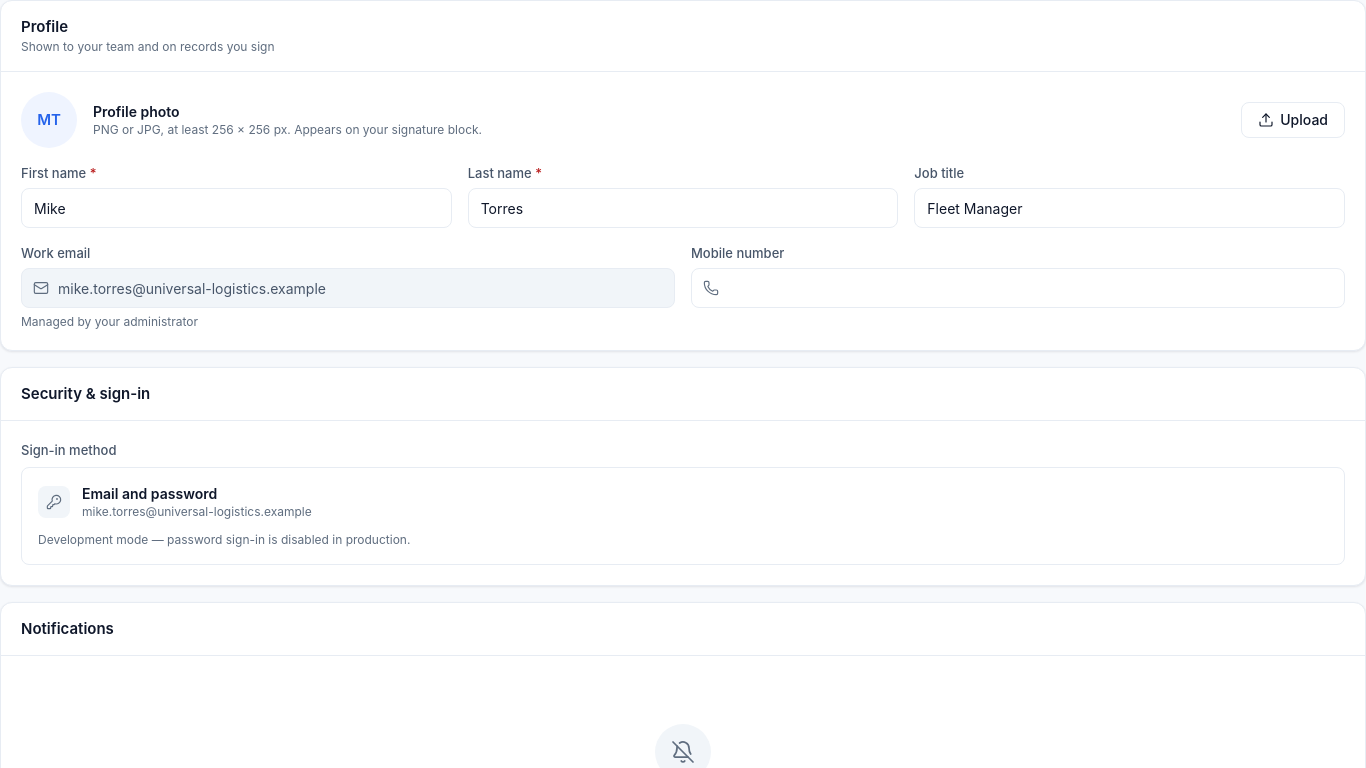
it: W-26 — Profile card › Mobile number — international input › typing 998… puts + in front and groups the digits; the API gets E.164
Type "9" into the field labelled "Mobile number".
click(1018, 288); type("9")  # box left=691, top=268, right=1345, bottom=308
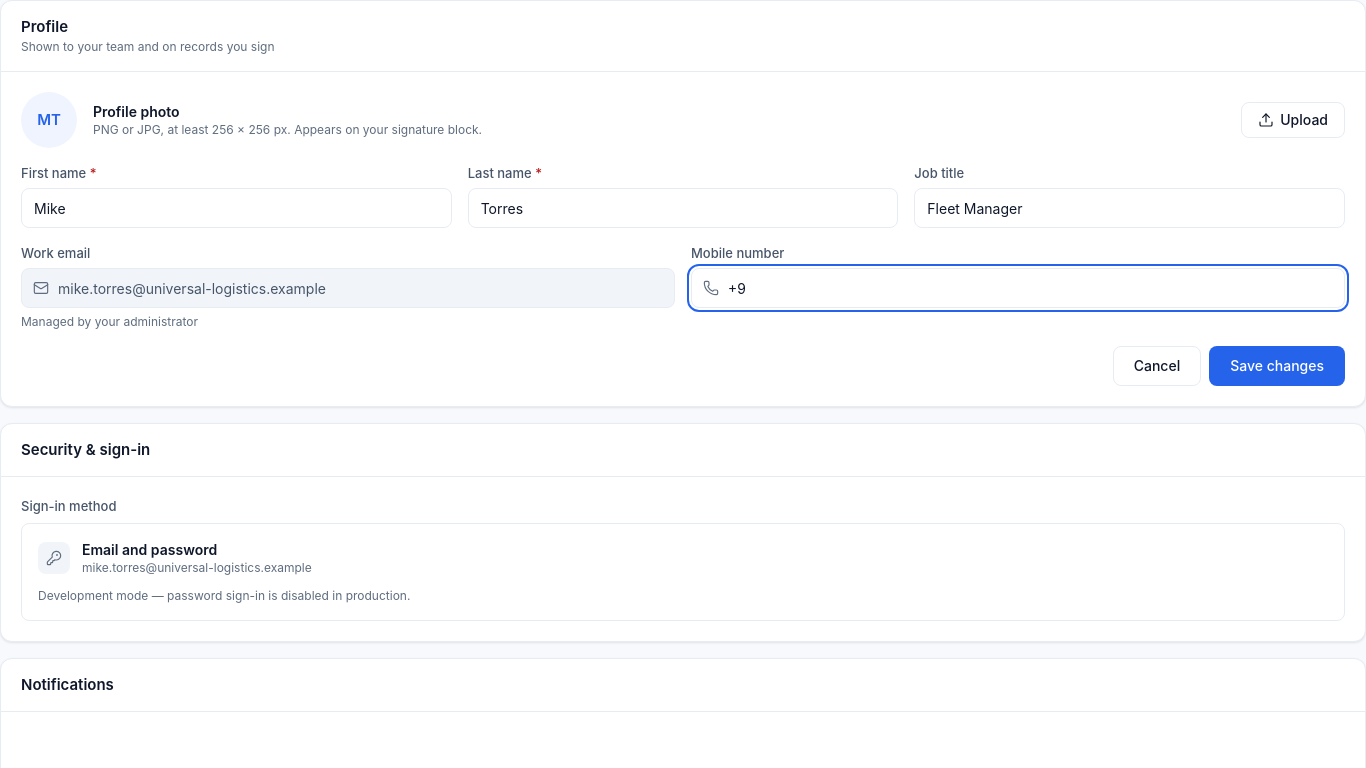
Result: the field labelled "Mobile number" holds "+9"
Type "98901234567" into the field labelled "Mobile number".
click(1018, 288); type("98901234567")  # box left=691, top=268, right=1345, bottom=308
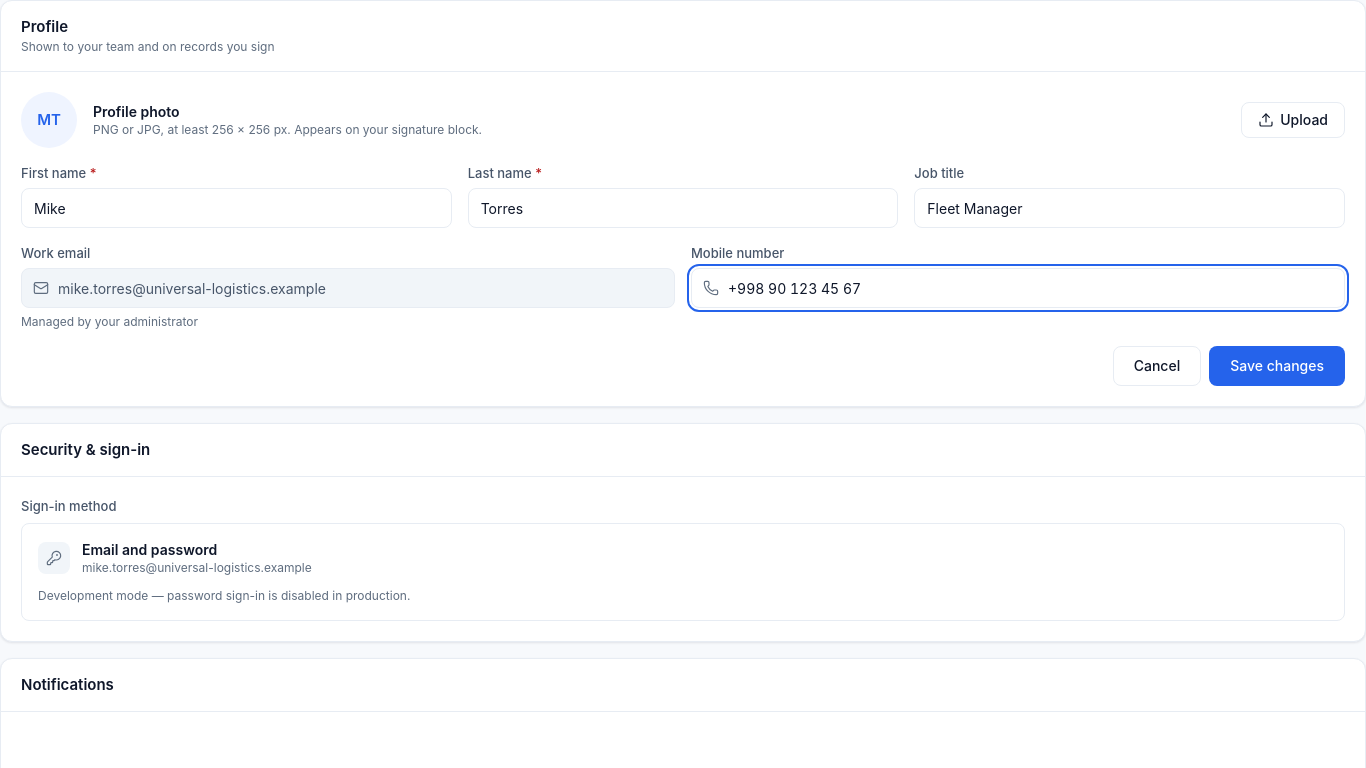
Result: the field labelled "Mobile number" holds "+998 90 123 45 67" at left=691, top=268, right=1345, bottom=308
Click the button "Save changes".
click(1277, 366)  # box left=1209, top=346, right=1345, bottom=386
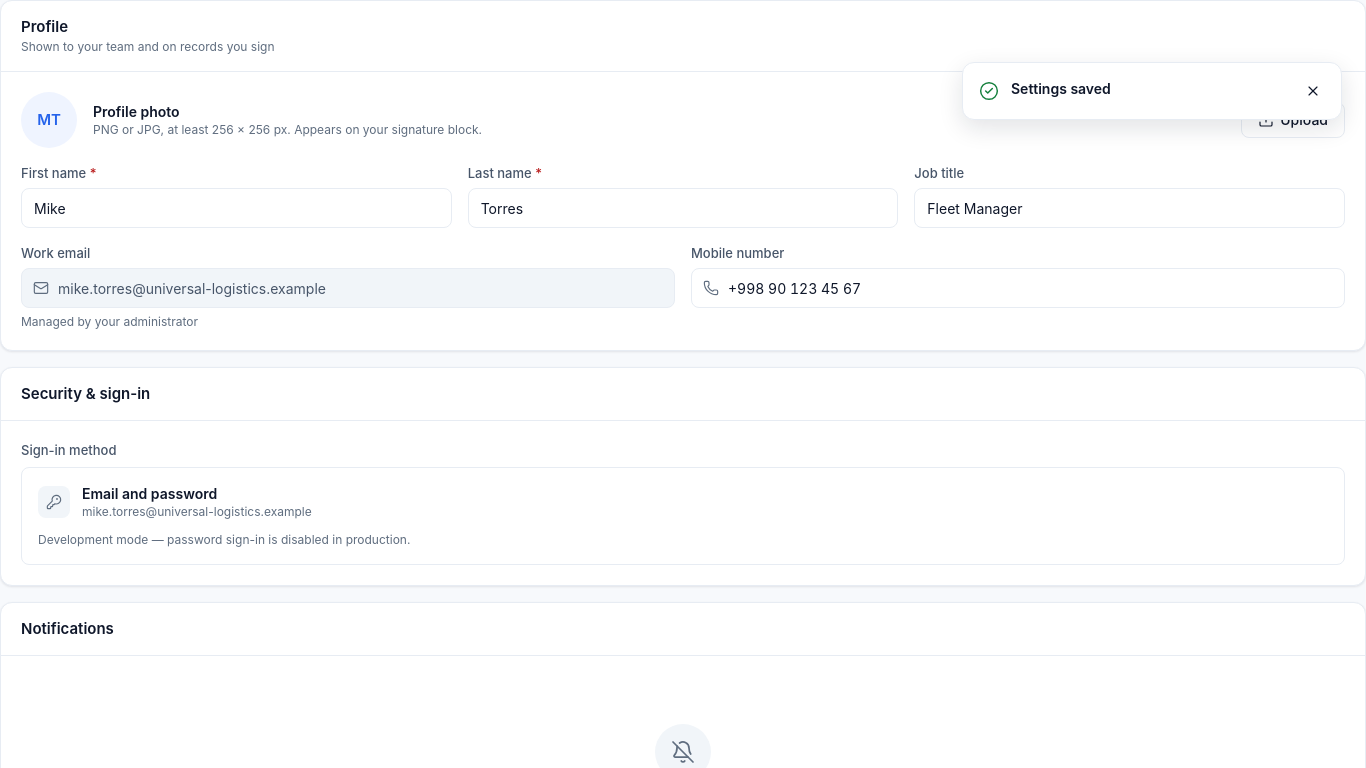
Result: the field labelled "Mobile number" holds "+998 90 123 45 67" at left=691, top=268, right=1345, bottom=308
Result: the text "Settings saved" is shown at left=1011, top=80, right=1111, bottom=97
